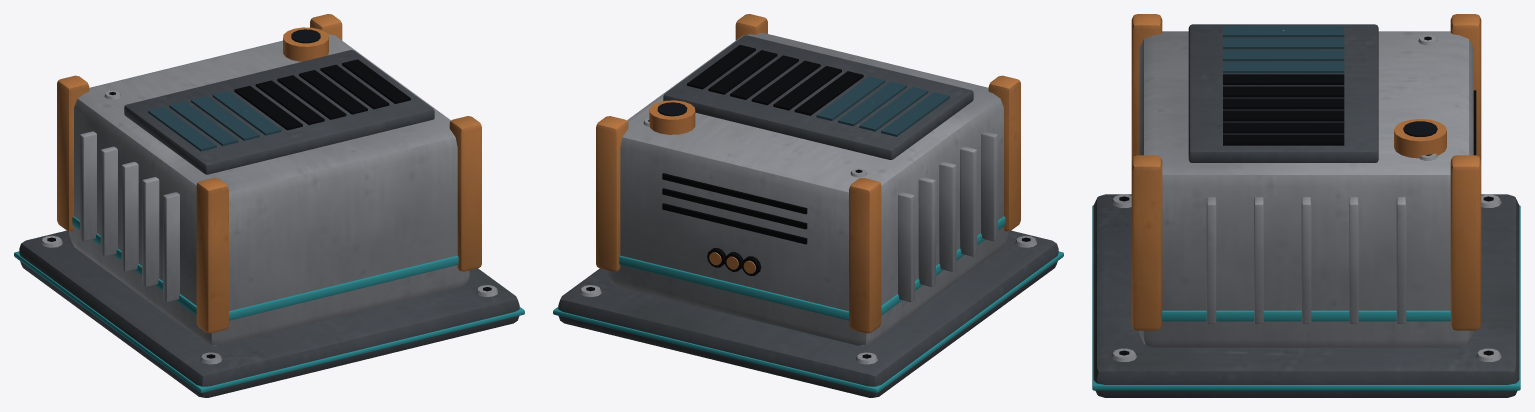
File: controller_3.glb
The picture shows the model from 3 angles, left to right: view 1: azimuth 30°, elevation 25°; view 2: azimuth 150°, elevation 25°; view 3: azimuth 270°, elevation 25°; orthographic projection. The views are drawn at different scales.
Parts seen in each view (by area): view 1: Body; view 2: Body; view 3: Body.
Part boxes in pixels (x1,y1,x2,y2): Body: (14, 14, 524, 397); Body: (553, 14, 1063, 397); Body: (1092, 14, 1520, 397).
Bounding box in the file's own units: 0.2256 × 0.1356 × 0.2256.
8 materials, 3 textured.
